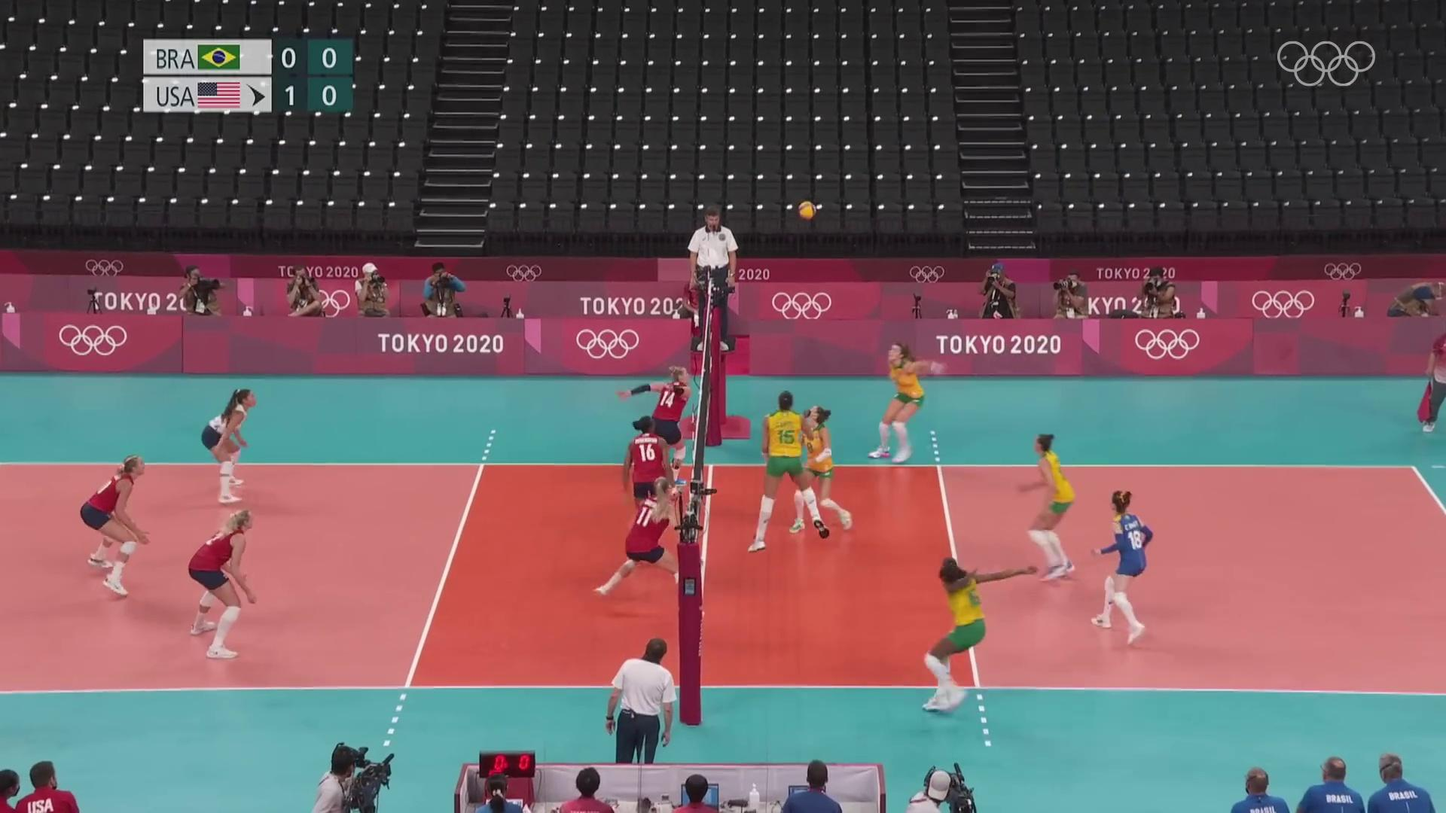player: (922, 559, 1031, 714), (746, 391, 831, 553), (595, 477, 684, 610), (78, 452, 150, 597), (188, 512, 258, 661), (1090, 490, 1154, 646), (619, 365, 695, 486), (1014, 434, 1077, 578), (869, 342, 939, 463), (792, 406, 852, 534), (627, 417, 675, 560), (201, 389, 258, 507)
refree: (609, 640, 677, 767), (684, 207, 739, 347), (1422, 316, 1446, 434)
